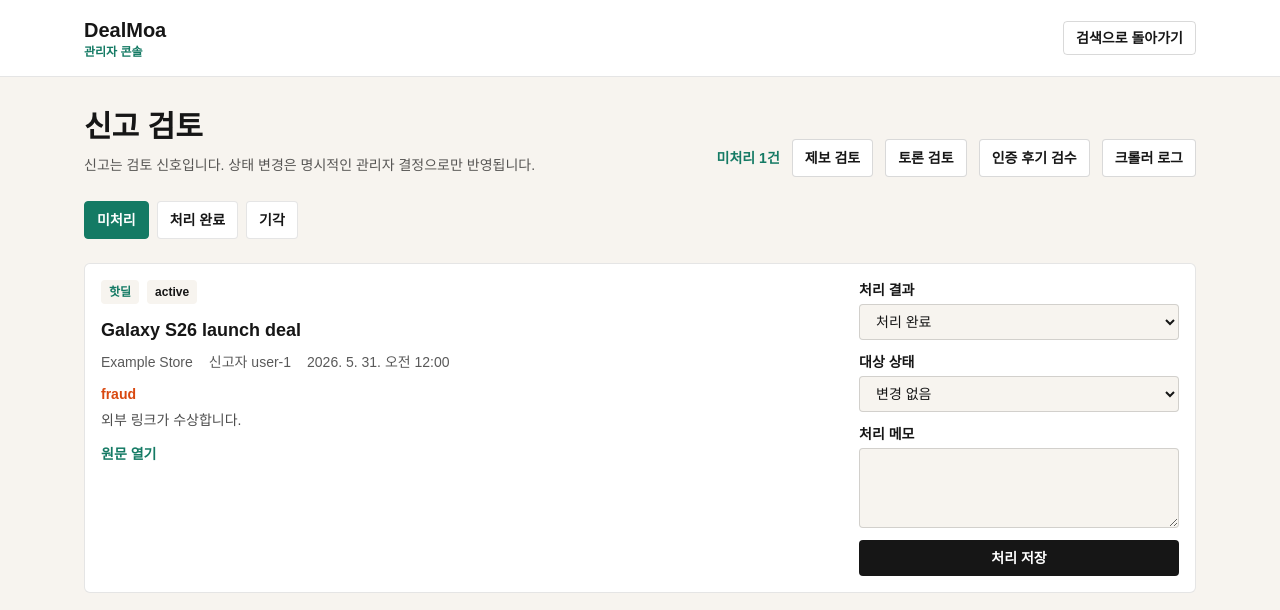
AdminReportQueue › loads open reports for admins and resolves a report with target status
Expected: the text "Example Store" is shown, [101, 352, 193, 372]
Expected: the text "fraud" is shown, [101, 386, 136, 402]
Step 1. Select "처리 완료" in the dropdown labelled "처리 결과" → (1019, 322), box [859, 304, 1179, 340]
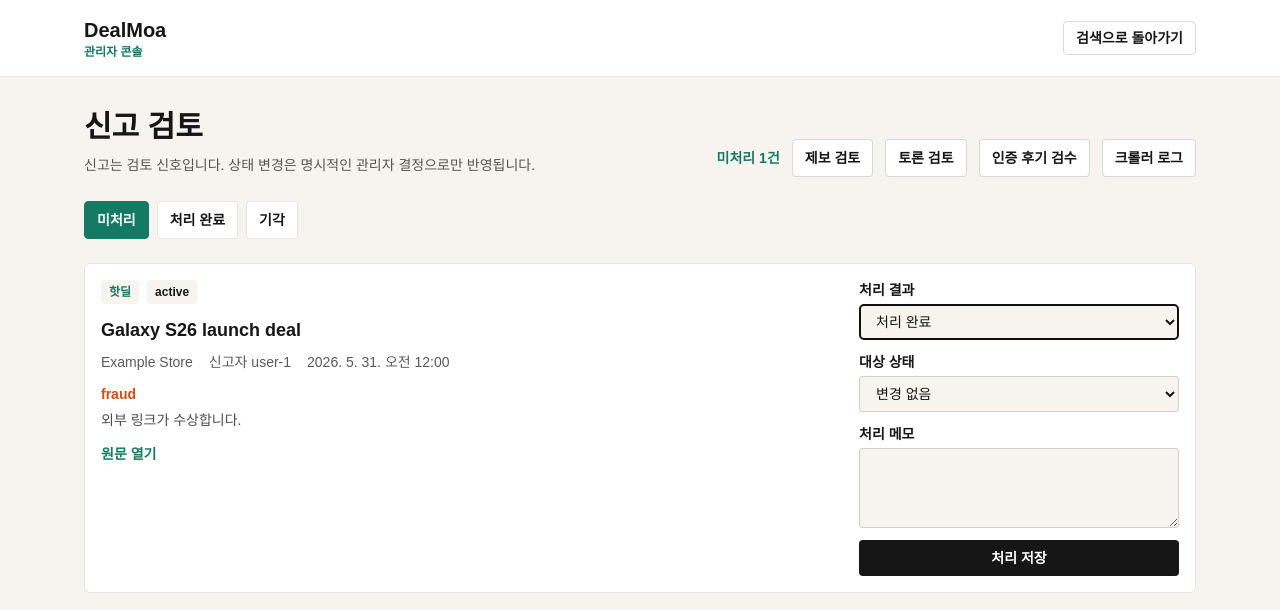
Step 2. Select "blocked" in the dropdown labelled "대상 상태" → (1019, 394), box [859, 376, 1179, 412]
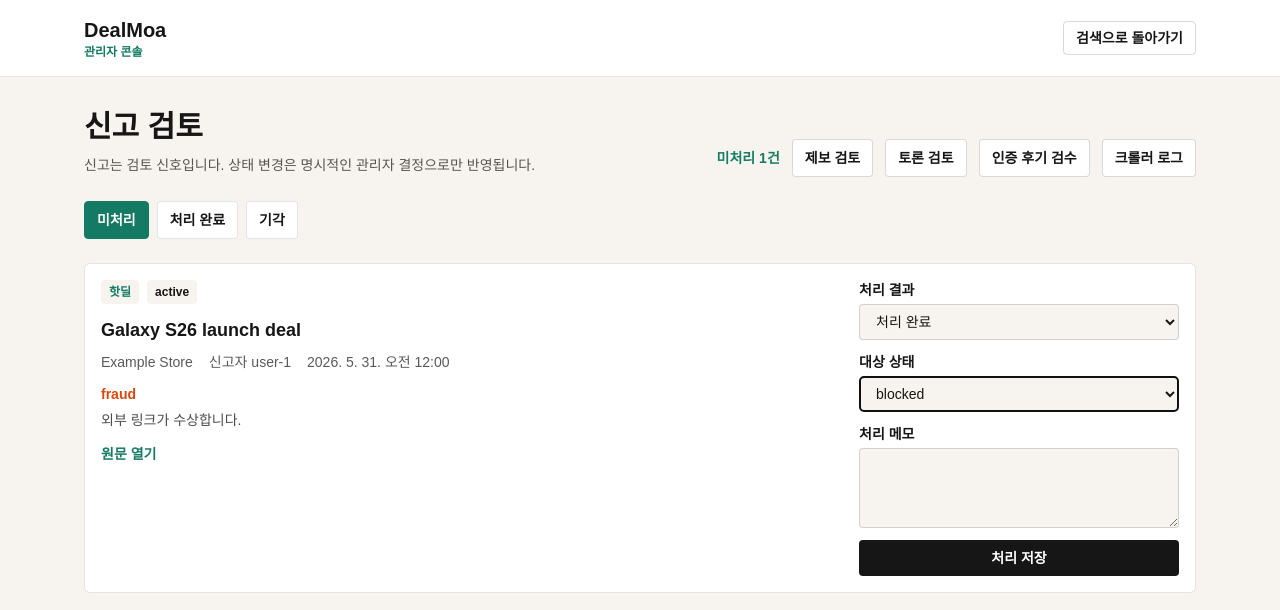
Step 3. Type "차단 처리" into the text box labelled "처리 메모" → (1019, 488), box [859, 448, 1179, 528]
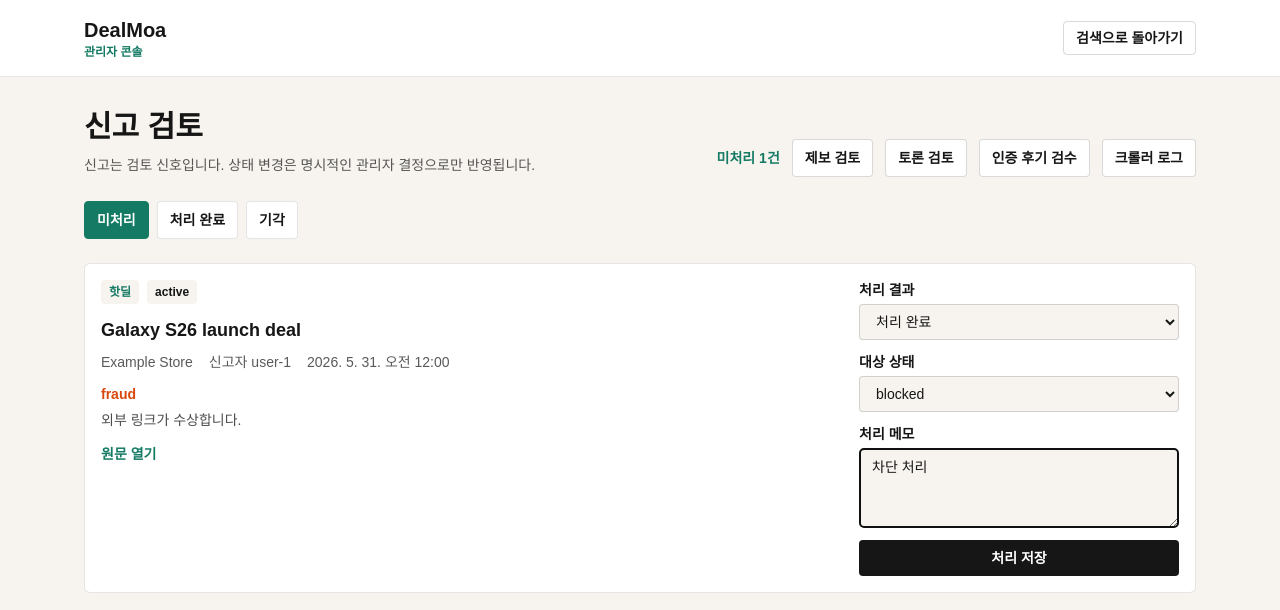
Step 4. Click the button "처리 저장" → click(1019, 558), box [859, 540, 1179, 576]
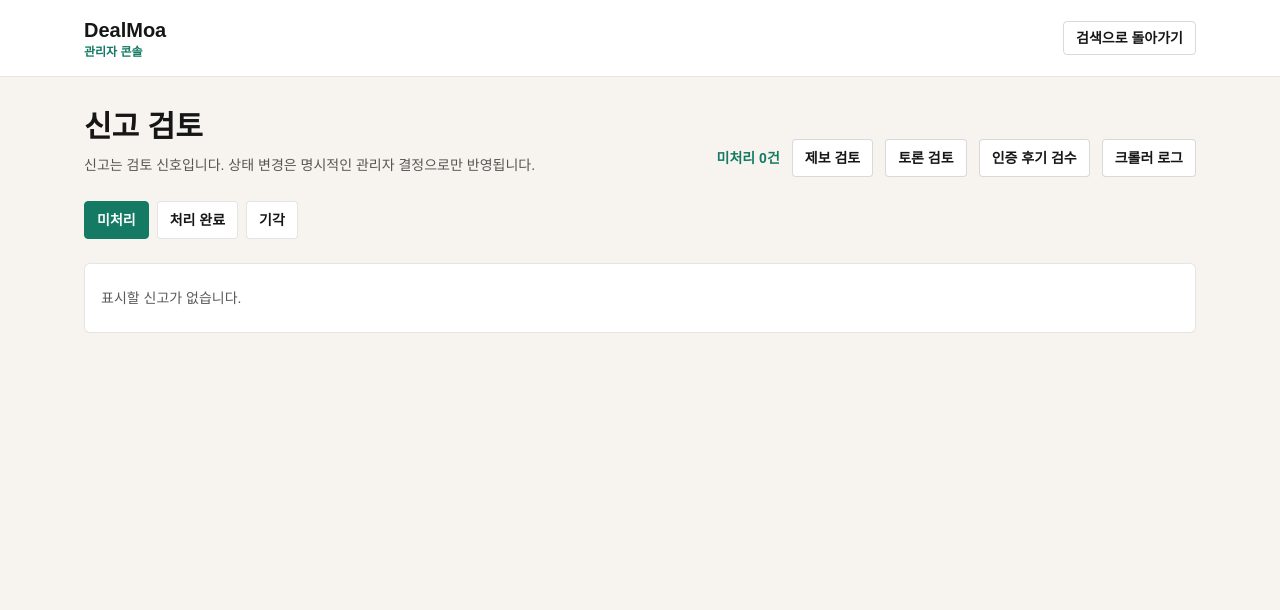
Expected: the text "표시할 신고가 없습니다." is shown, [84, 263, 1196, 333]
